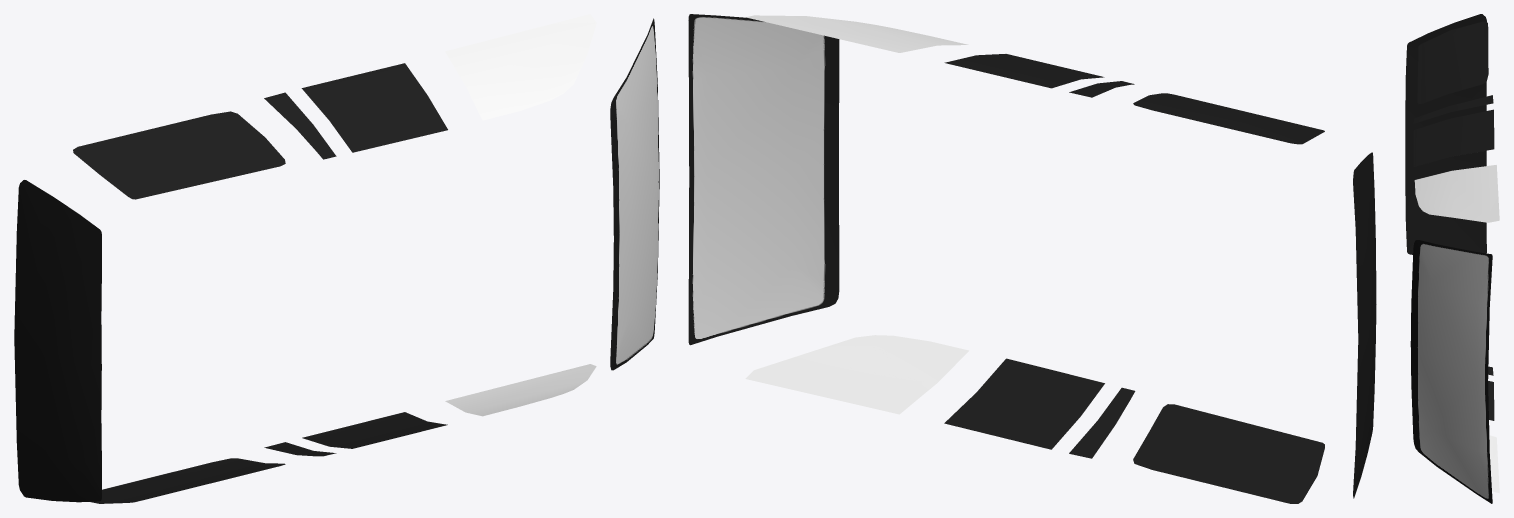
The model's file is windows.obj.
3 renders of one model, left to right at view 1: azimuth 30°, elevation 25°; view 2: azimuth 150°, elevation 25°; view 3: azimuth 270°, elevation 25°, orthographic. The views are drawn at different scales.
Visible parts, largest first — view 1: 24_-_Default; view 2: 24_-_Default; view 3: 24_-_Default.
Boxes of the visible parts, x1,y1,x2,y2 form: 24_-_Default: (14,14,659,503); 24_-_Default: (688,14,1376,503); 24_-_Default: (1405,14,1499,503).
Bounding box in the file's own units: 3.11 × 1.61 × 0.5055.
1 material, 1 textured.
